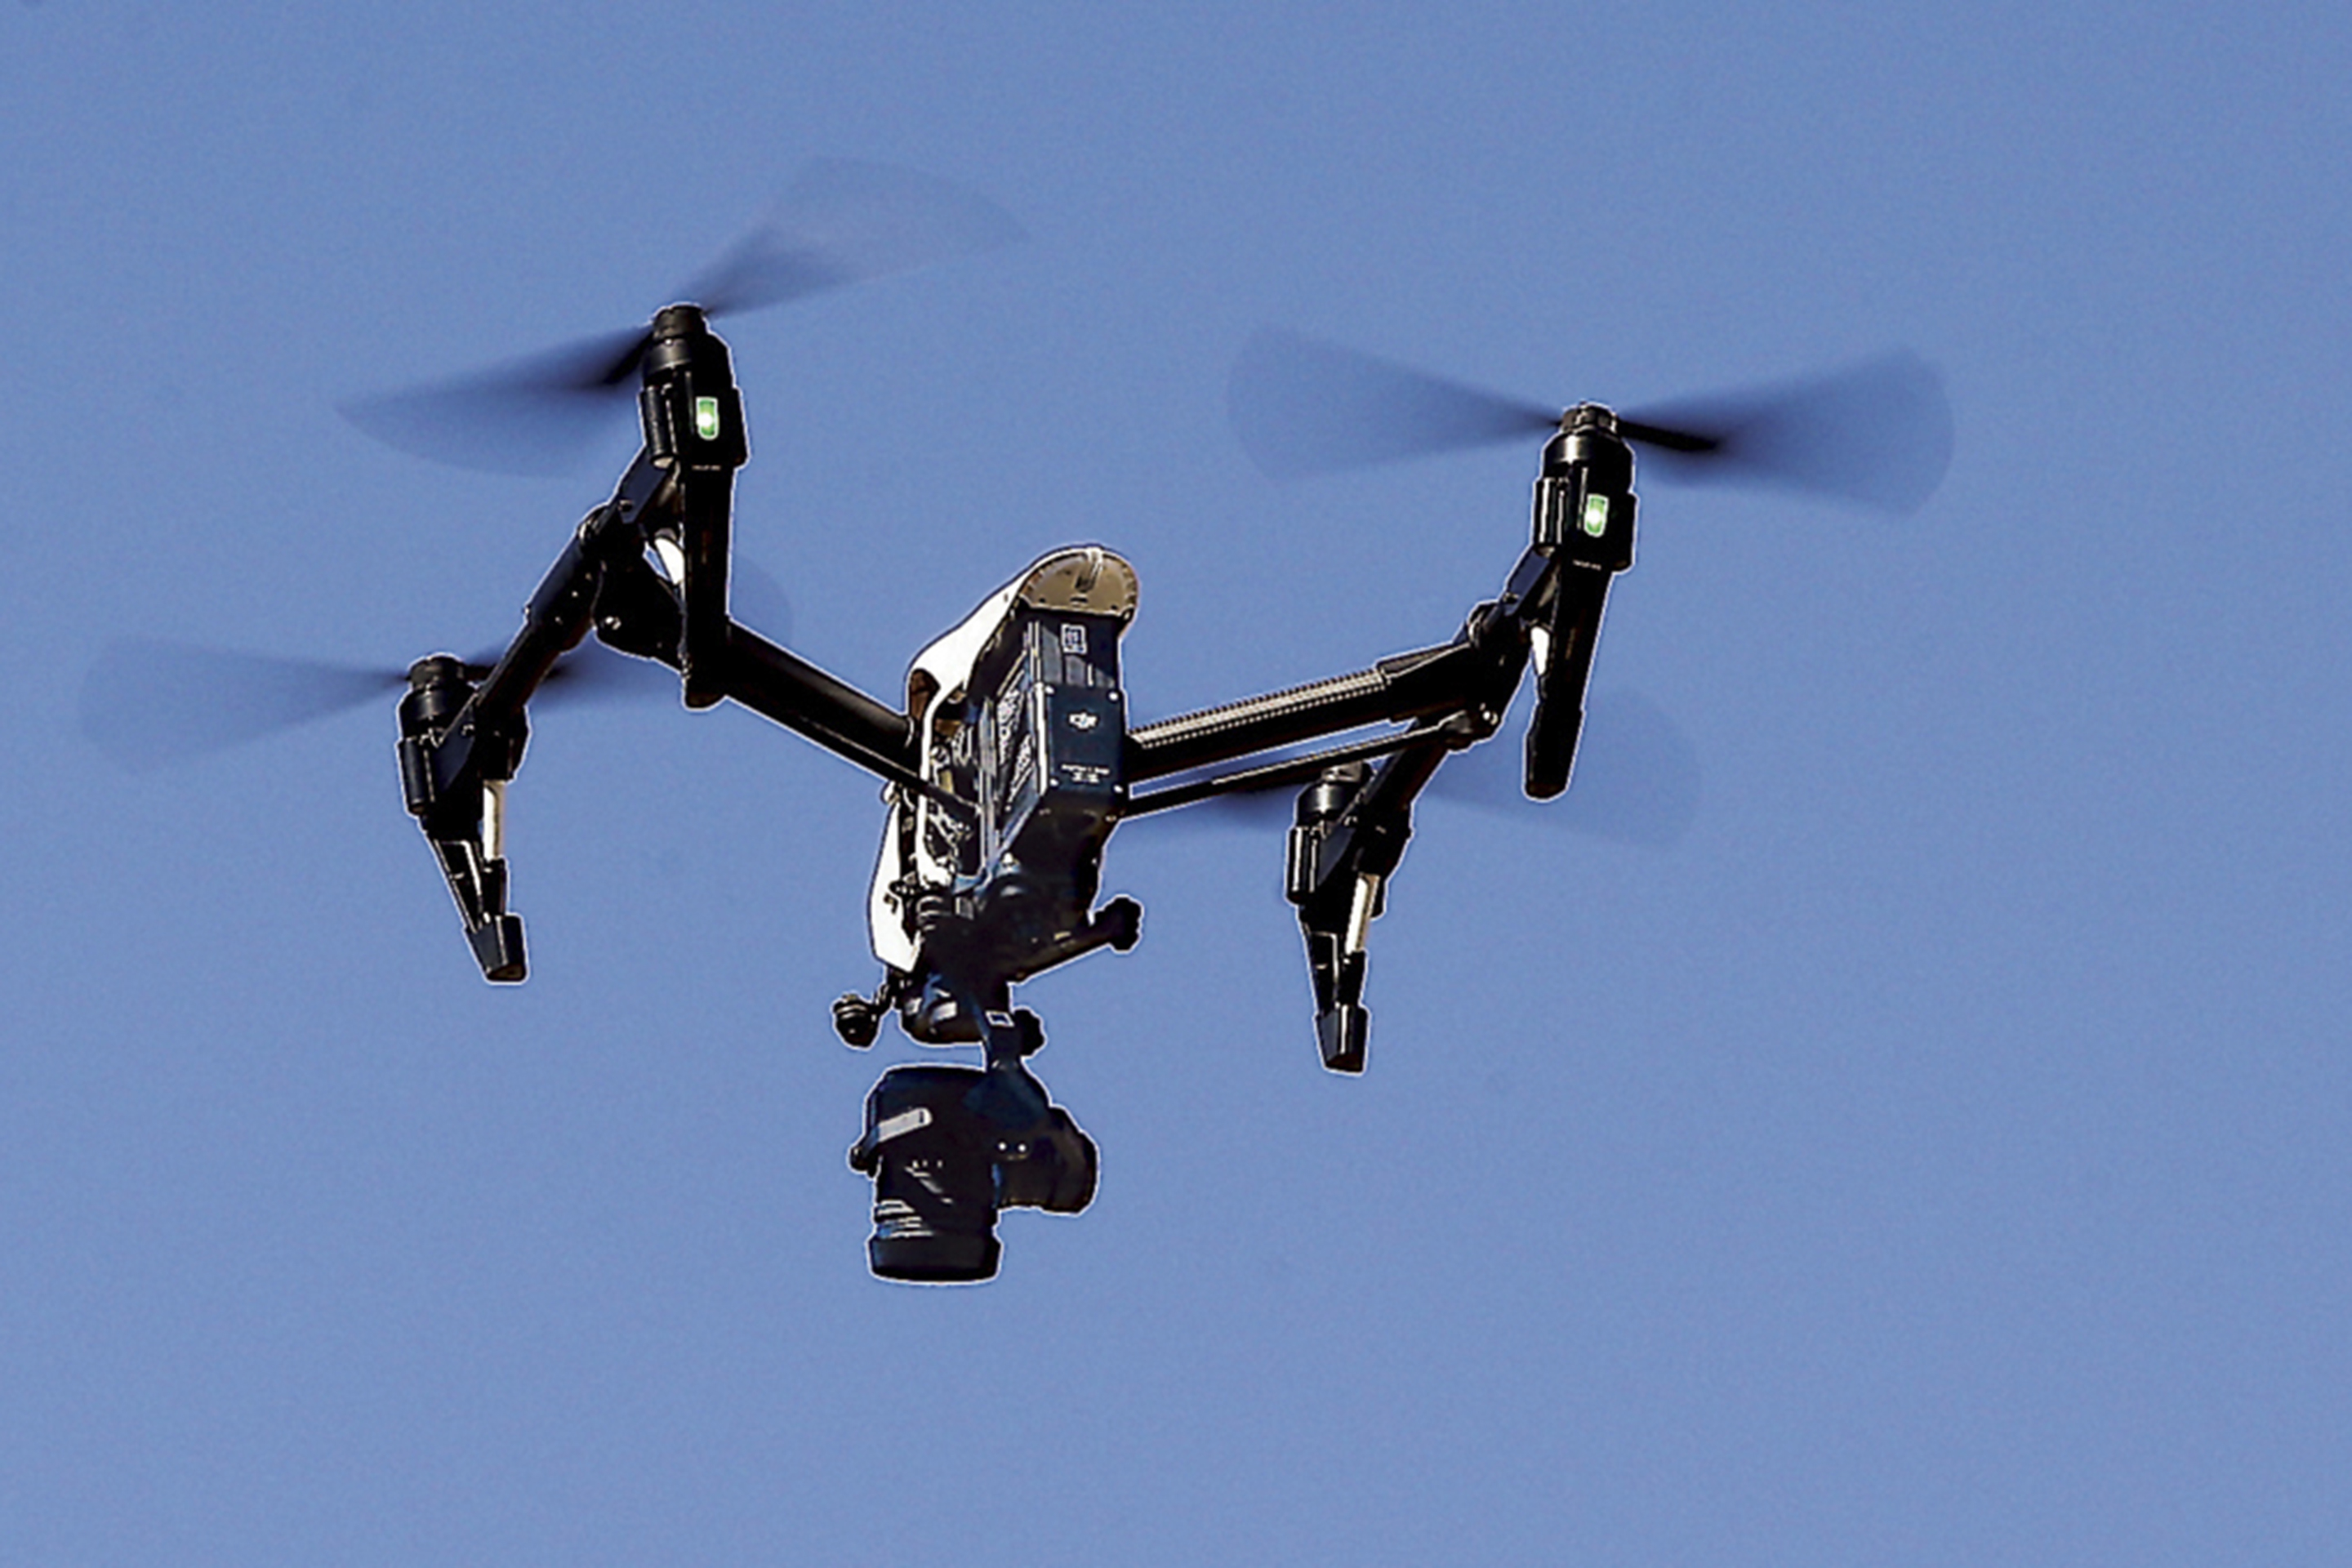drone: (68, 152, 1967, 1300)
